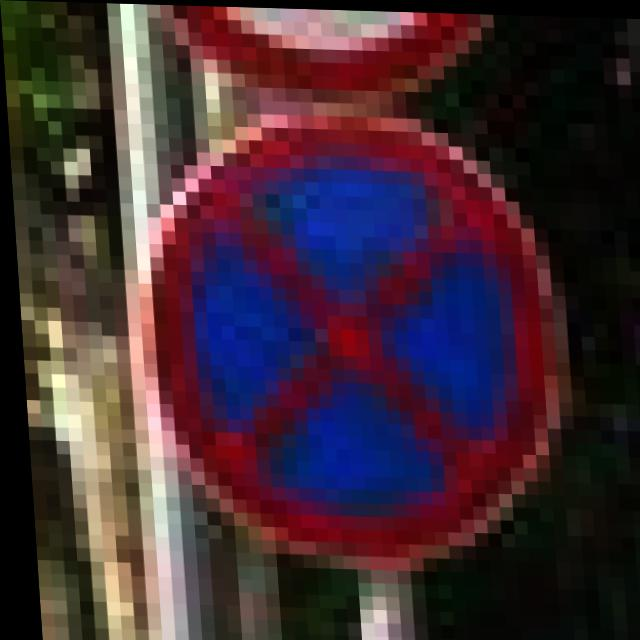NO_STOPPING_OR_STANDING: (112, 114, 567, 580)
